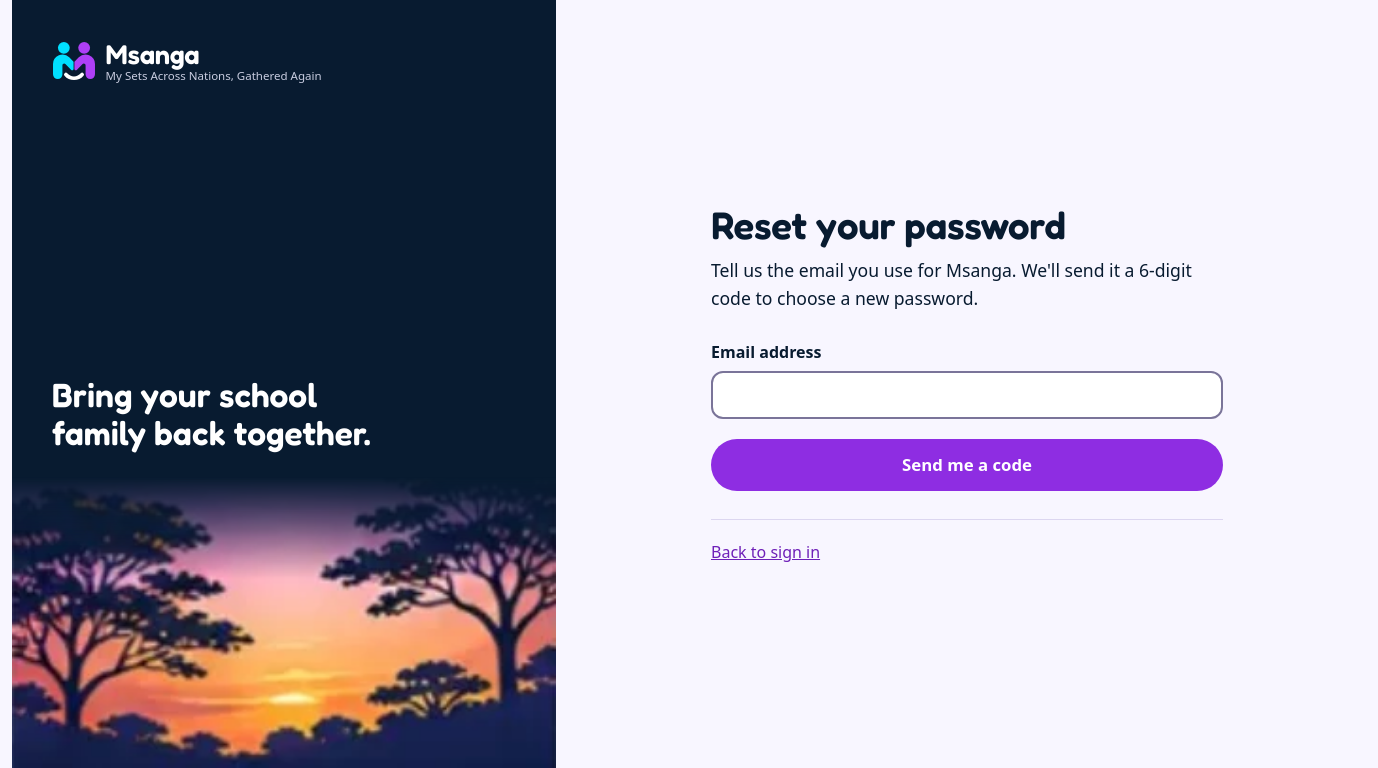
Forgot and reset password with a code (against the pretend API) › looks the same for an email with no account (no way to find out who is on Msanga)
The width and height of the screenshot is (1378, 768).
Check: the heading "Reset your password" is shown, box [711,202,1066,248]
In the field labelled "Email address": (967, 395) [711,371,1223,420], type "nobody@example.com"
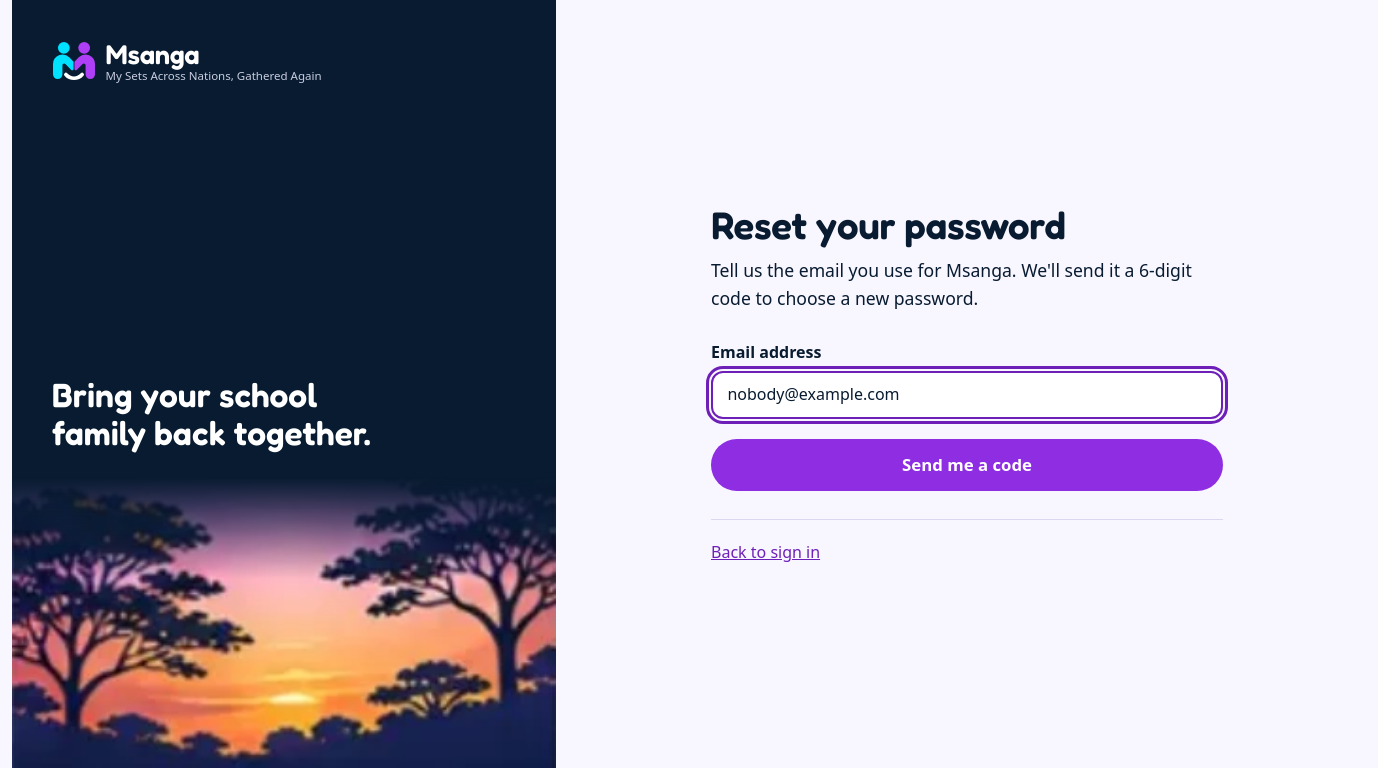
Click the button "Send me a code": (967, 466) [711,440,1223,492]
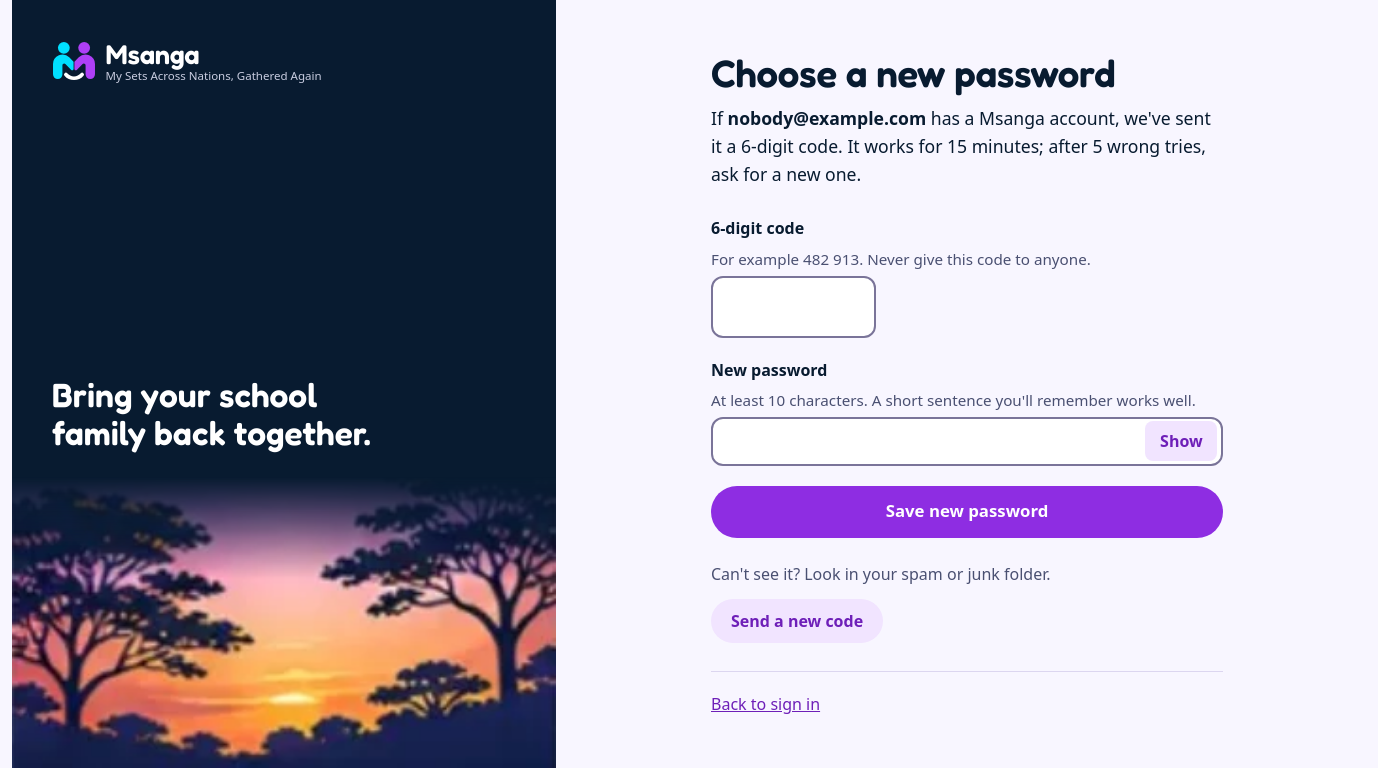
Check: the heading "Choose a new password" is shown, box [711,50,1116,96]
Check: the text "has a Msanga account, we've sent it a 6-digit code" is shown, box [711,106,1211,186]
